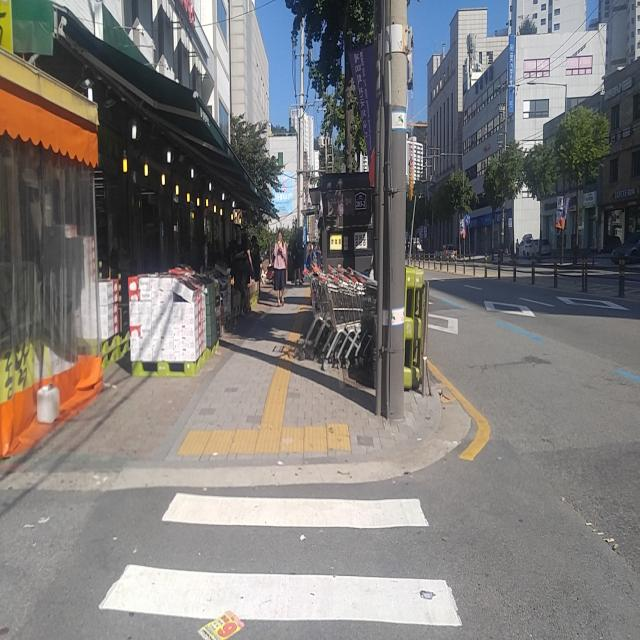횡단보도: (97, 492, 463, 629)
